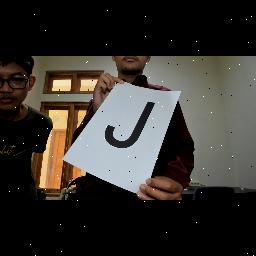j: (101, 100, 161, 154)
